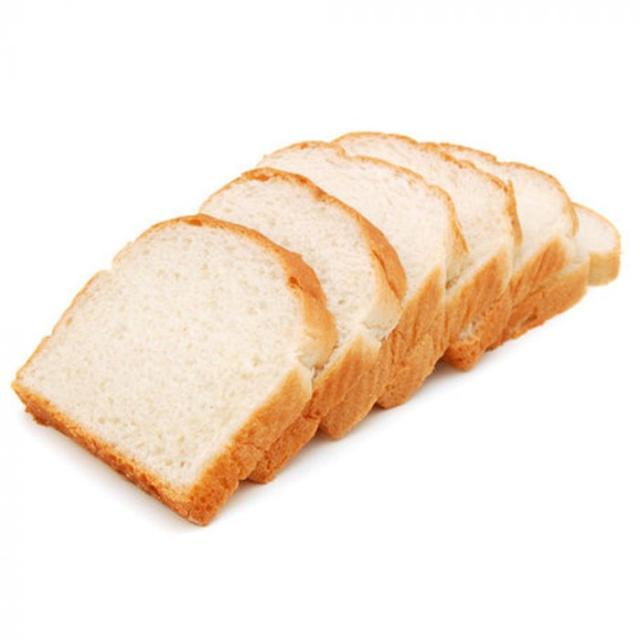Bread: (14, 215, 336, 524), (201, 168, 405, 481), (264, 141, 462, 408), (335, 132, 518, 369), (441, 145, 578, 306), (504, 204, 620, 338)
